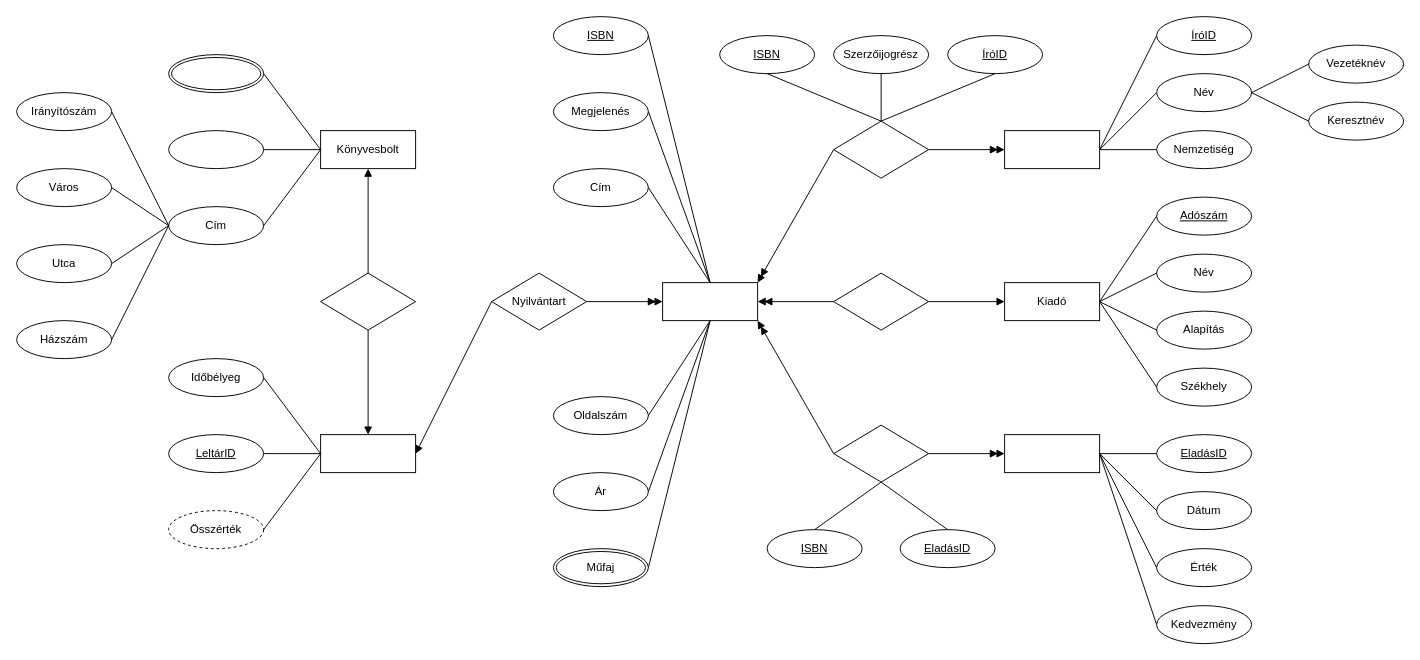
Some shapes in this 1420 by 660 pixel diagram are drawn without their labels. The shapes that lost their labels are listed below. From the top down, each one's centre as x and y in pixels, then its label:
At point 216,73: "Telefonszám".
At point 216,149: "BoltID".
At point 881,149: "Szerzője".
At point 1052,149: "Író".
At point 368,301: "Tükröz".
At point 710,301: "Könyv".
At point 881,301: "Kiadja".
At point 368,453: "Leltár".
At point 881,453: "Tartalmaz".
At point 1052,453: "Eladás".
